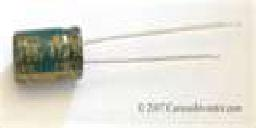Electrolytic Capacitor: (13, 22, 256, 90)
